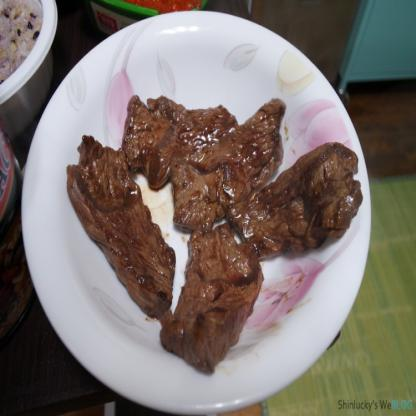Carne: (70, 135, 178, 320), (170, 98, 287, 226), (162, 228, 261, 373), (235, 145, 362, 258), (127, 88, 237, 191)
